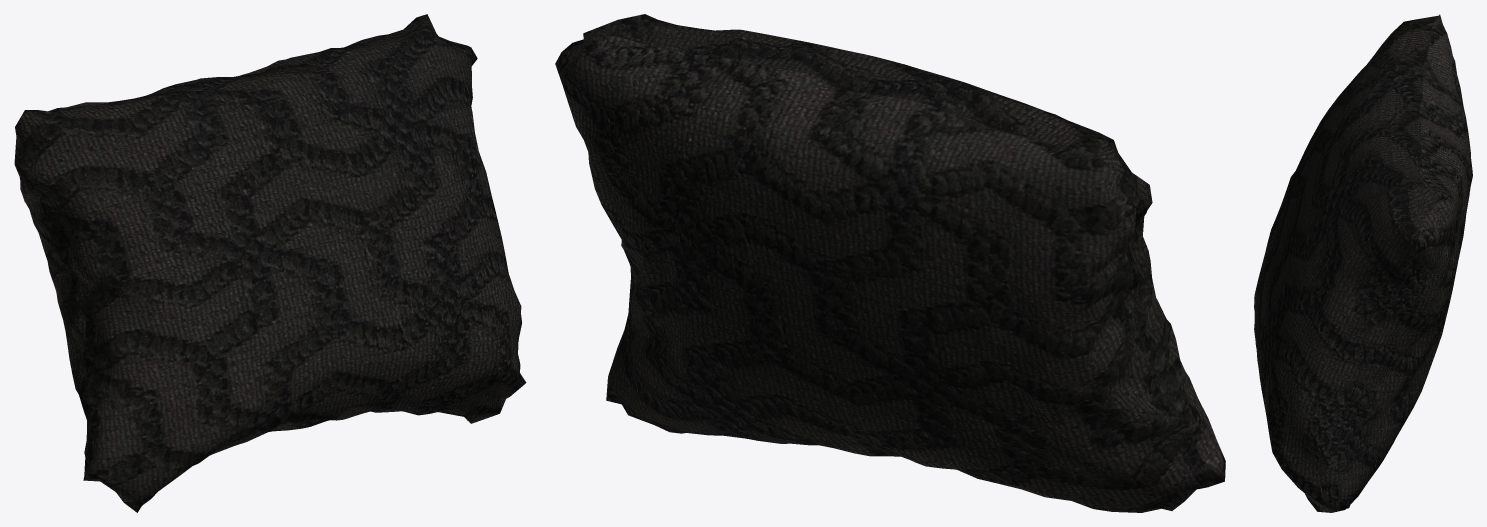
The model's file is coussin.FBX.
The picture shows the model from 3 angles, left to right: view 1: azimuth 30°, elevation 25°; view 2: azimuth 150°, elevation 25°; view 3: azimuth 270°, elevation 25°; orthographic projection. The views are drawn at different scales.
Parts seen in each view (by area): view 1: Rectangle005; view 2: Rectangle005; view 3: Rectangle005.
Part boxes in pixels (x1,y1,x2,y2): Rectangle005: (14,14,526,512); Rectangle005: (555,14,1225,512); Rectangle005: (1254,14,1472,512).
Bounding box in the file's own units: 158 × 119 × 72.24.
